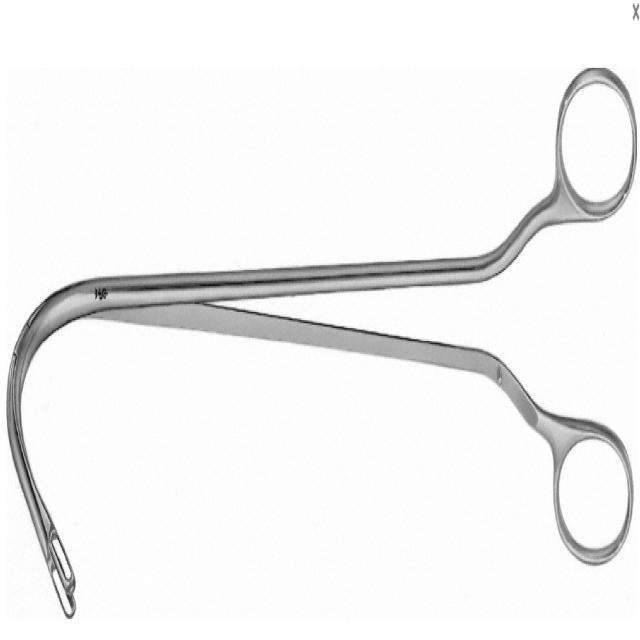Randall: (5, 26, 636, 622)
